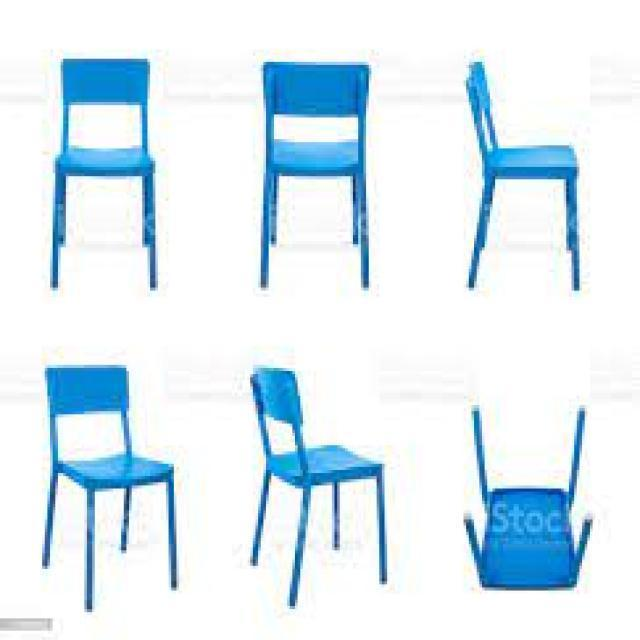chair: (38, 362, 182, 616), (253, 364, 387, 604), (460, 53, 580, 292), (258, 60, 374, 293), (49, 53, 161, 291), (464, 404, 592, 592)
